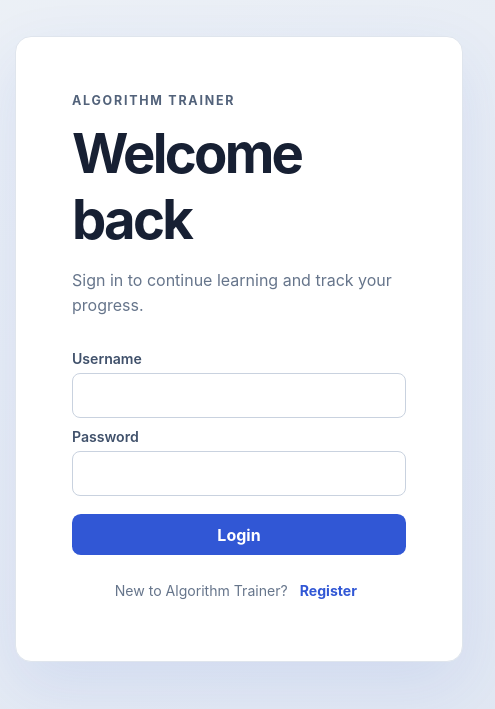
it: App › shows authentication failures without entering the application
The width and height of the screenshot is (495, 709).
Expected: the heading "Welcome back" is shown, [72, 120, 301, 252]
Type "learner" into the field labelled "Username" at (239, 395), box [72, 373, 406, 418]
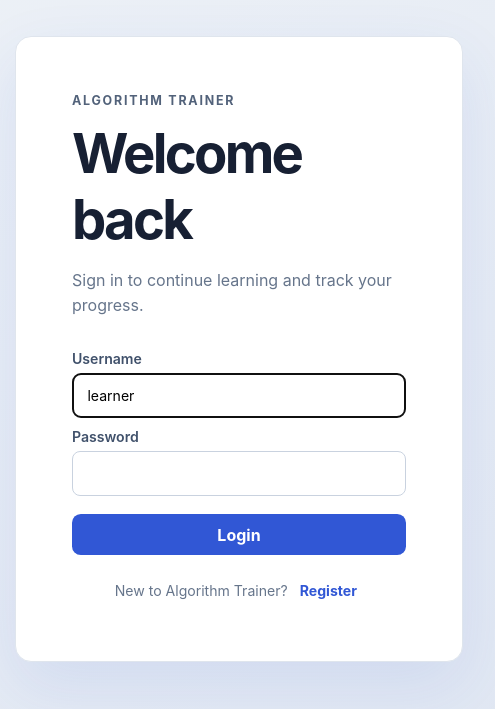
Type "incorrect-password" into the password field labelled "Password" at (239, 474), box [72, 451, 406, 496]
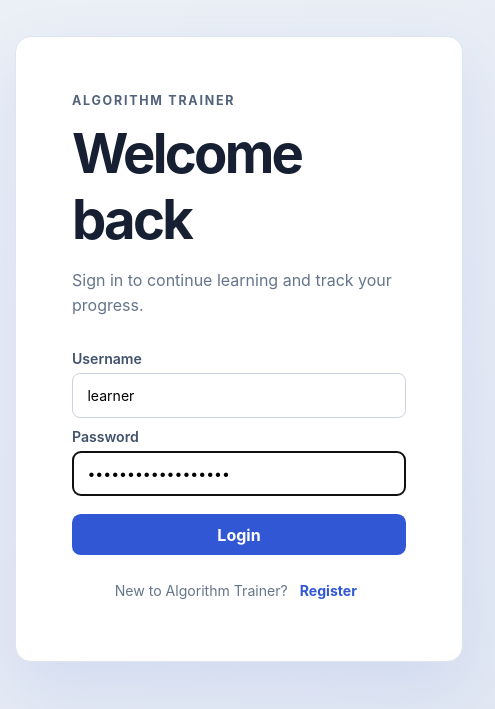
Click the button "Login" at (239, 535), box [72, 514, 406, 555]
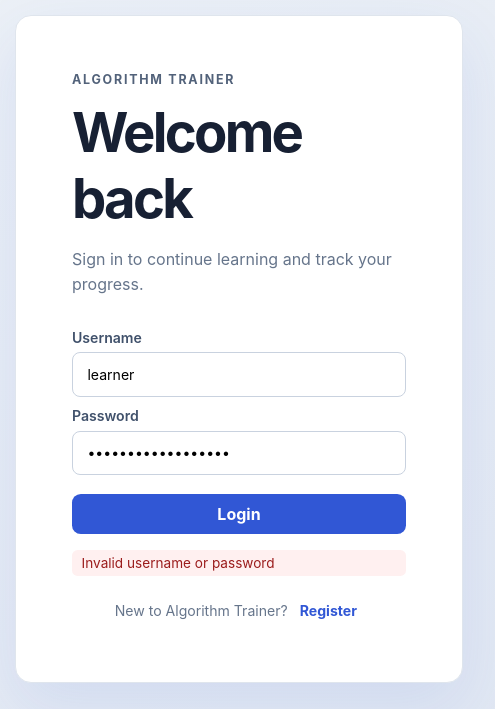
Result: the message reads "Invalid username or password" at [82, 555, 275, 571]
